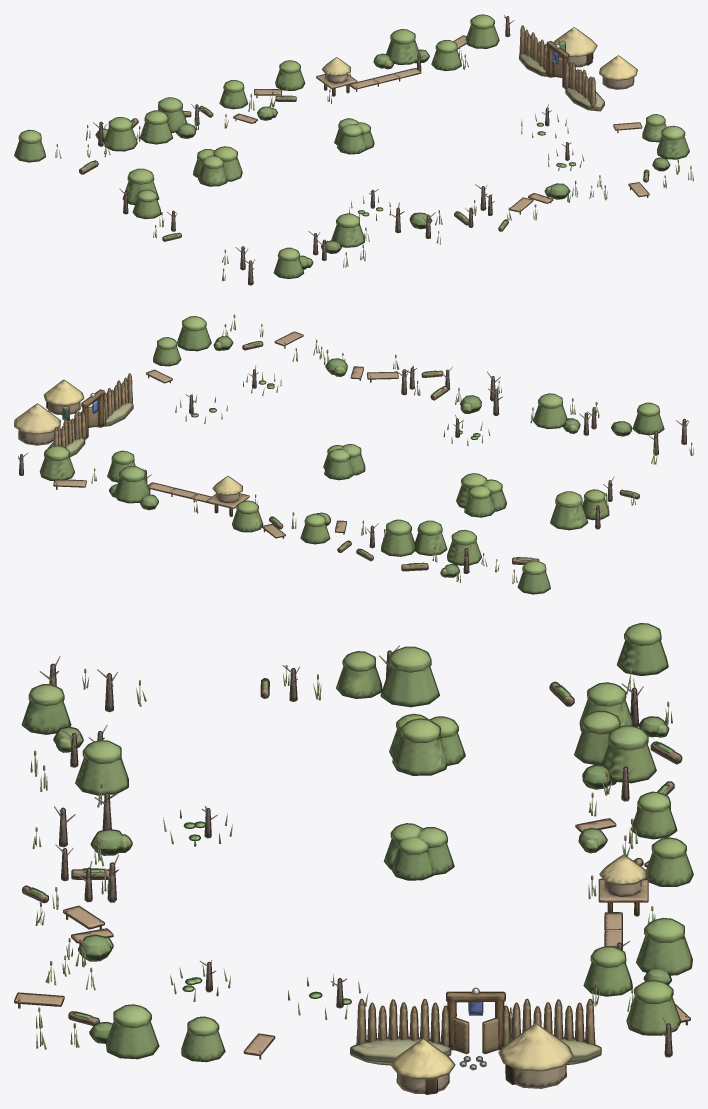
The model's file is mirefen_bog.glb.
3 renders of one model, top to bottom at view 1: azimuth 30°, elevation 25°; view 2: azimuth 150°, elevation 25°; view 3: azimuth 270°, elevation 25°, orthographic. The views are drawn at different scales.
Visible parts, largest first — view 1: Baked_matte, Baked_matte_Outline; view 2: Baked_matte, Baked_matte_Outline; view 3: Baked_matte, Baked_matte_Outline.
Part boxes in pixels (box(x1,y1,x2,y2)): Baked_matte: box(15, 15, 693, 284); Baked_matte_Outline: box(14, 14, 689, 285); Baked_matte: box(14, 314, 693, 593); Baked_matte_Outline: box(14, 316, 686, 594); Baked_matte: box(15, 624, 692, 1093); Baked_matte_Outline: box(14, 623, 693, 1094).
Size of the model in its own units: 41.08 by 3.16 by 27.14.
